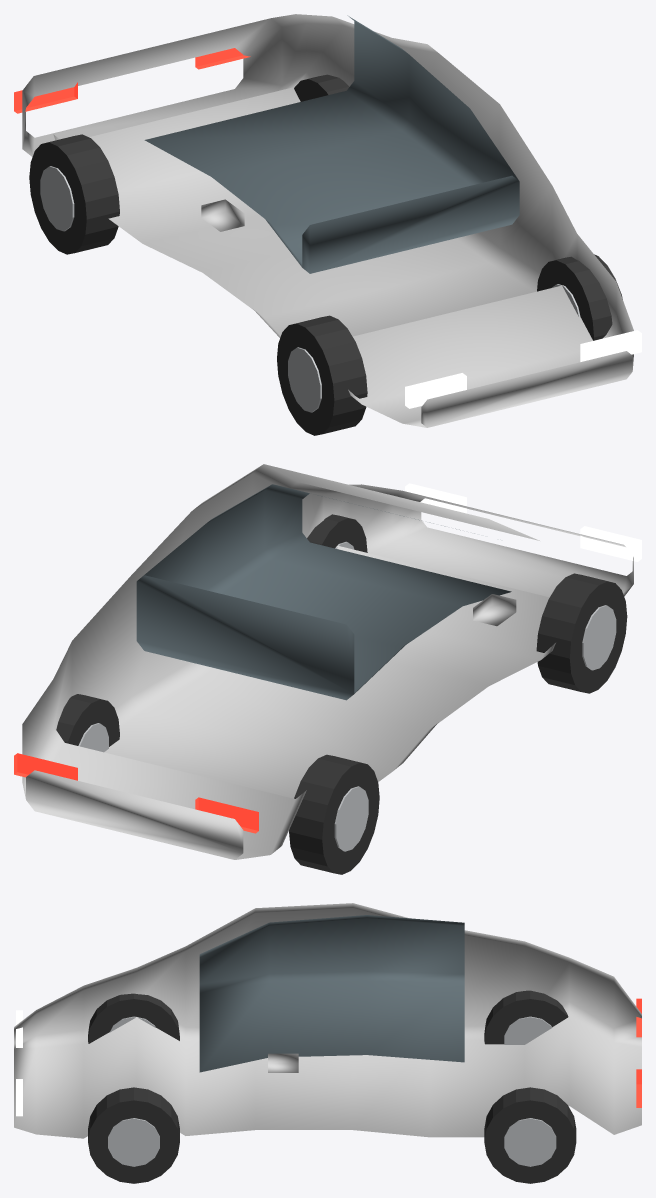
Rendered from traffic-sedan.glb.
3 views of the same model, one above another, from view 1: azimuth 30°, elevation 25°; view 2: azimuth 150°, elevation 25°; view 3: azimuth 270°, elevation 25° (orthographic). The views are drawn at different scales.
Parts seen in each view (by area): view 1: body, glass, wheel (×4), wheel-rim (×2), headlamp, taillight; view 2: body, glass, wheel (×4), wheel-rim (×3), headlamp, taillight; view 3: body, glass, wheel (×4), wheel-rim (×3), headlamp, taillight.
Part boxes in pixels (x1,y1,x2,y2): body: [22, 14, 633, 427]; glass: [144, 15, 519, 273]; wheel (×4): [29, 74, 622, 435]; wheel-rim (×2): [40, 166, 321, 412]; headlamp: [405, 330, 641, 408]; taillight: [14, 48, 250, 113]; body: [22, 464, 633, 859]; glass: [136, 484, 511, 700]; wheel (×4): [56, 514, 627, 874]; wheel-rim (×3): [78, 605, 616, 851]; headlamp: [405, 483, 641, 561]; taillight: [14, 753, 258, 833]; body: [14, 903, 641, 1138]; glass: [199, 915, 464, 1072]; wheel (×4): [88, 990, 576, 1183]; wheel-rim (×3): [108, 1016, 556, 1166]; headlamp: [16, 1010, 22, 1116]; taillight: [636, 998, 641, 1107].
Bounding box in the file's own units: 1.96 × 1.42 × 4.5.
